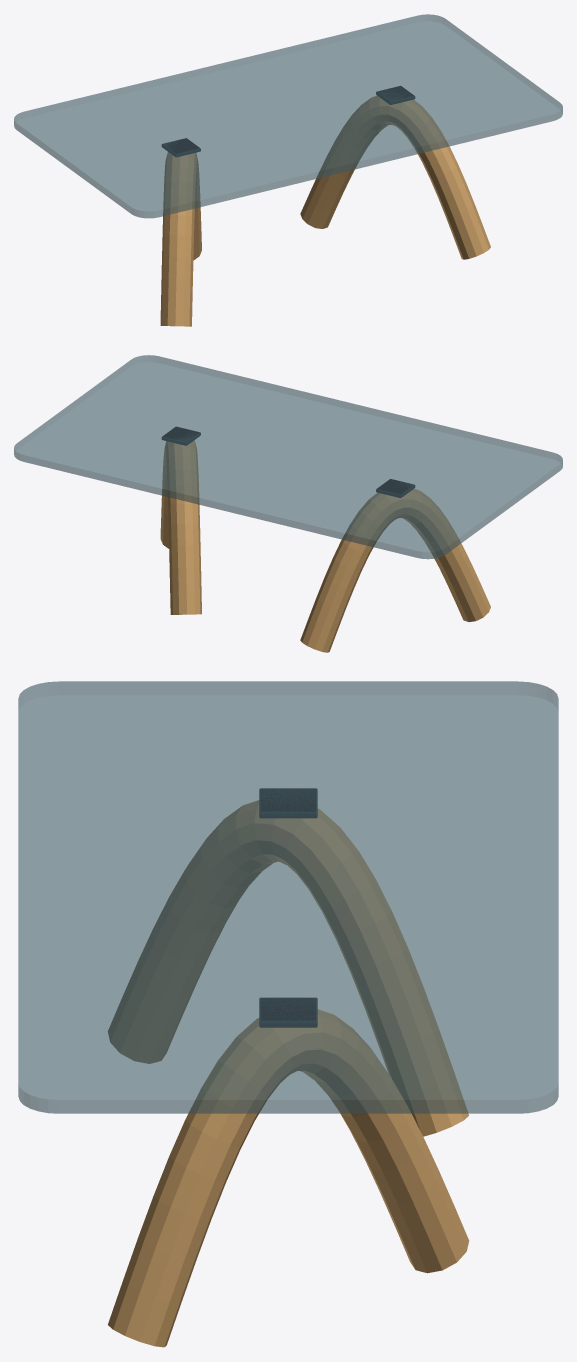
File: designed-coffee-glass.glb
3 views of the same model, one above another, from view 1: azimuth 30°, elevation 25°; view 2: azimuth 150°, elevation 25°; view 3: azimuth 270°, elevation 25° (orthographic). The views are drawn at different scales.
Parts seen in each view (by area): view 1: designed-coffee-glass authored assembly; view 2: designed-coffee-glass authored assembly; view 3: designed-coffee-glass authored assembly.
Part boxes in pixels (left/top/right/bottom): designed-coffee-glass authored assembly: left=14, top=14, right=562, bottom=326; designed-coffee-glass authored assembly: left=14, top=355, right=562, bottom=652; designed-coffee-glass authored assembly: left=18, top=681, right=558, bottom=1347.
Bounding box in the file's own units: 1.1 × 0.38 × 0.6.
